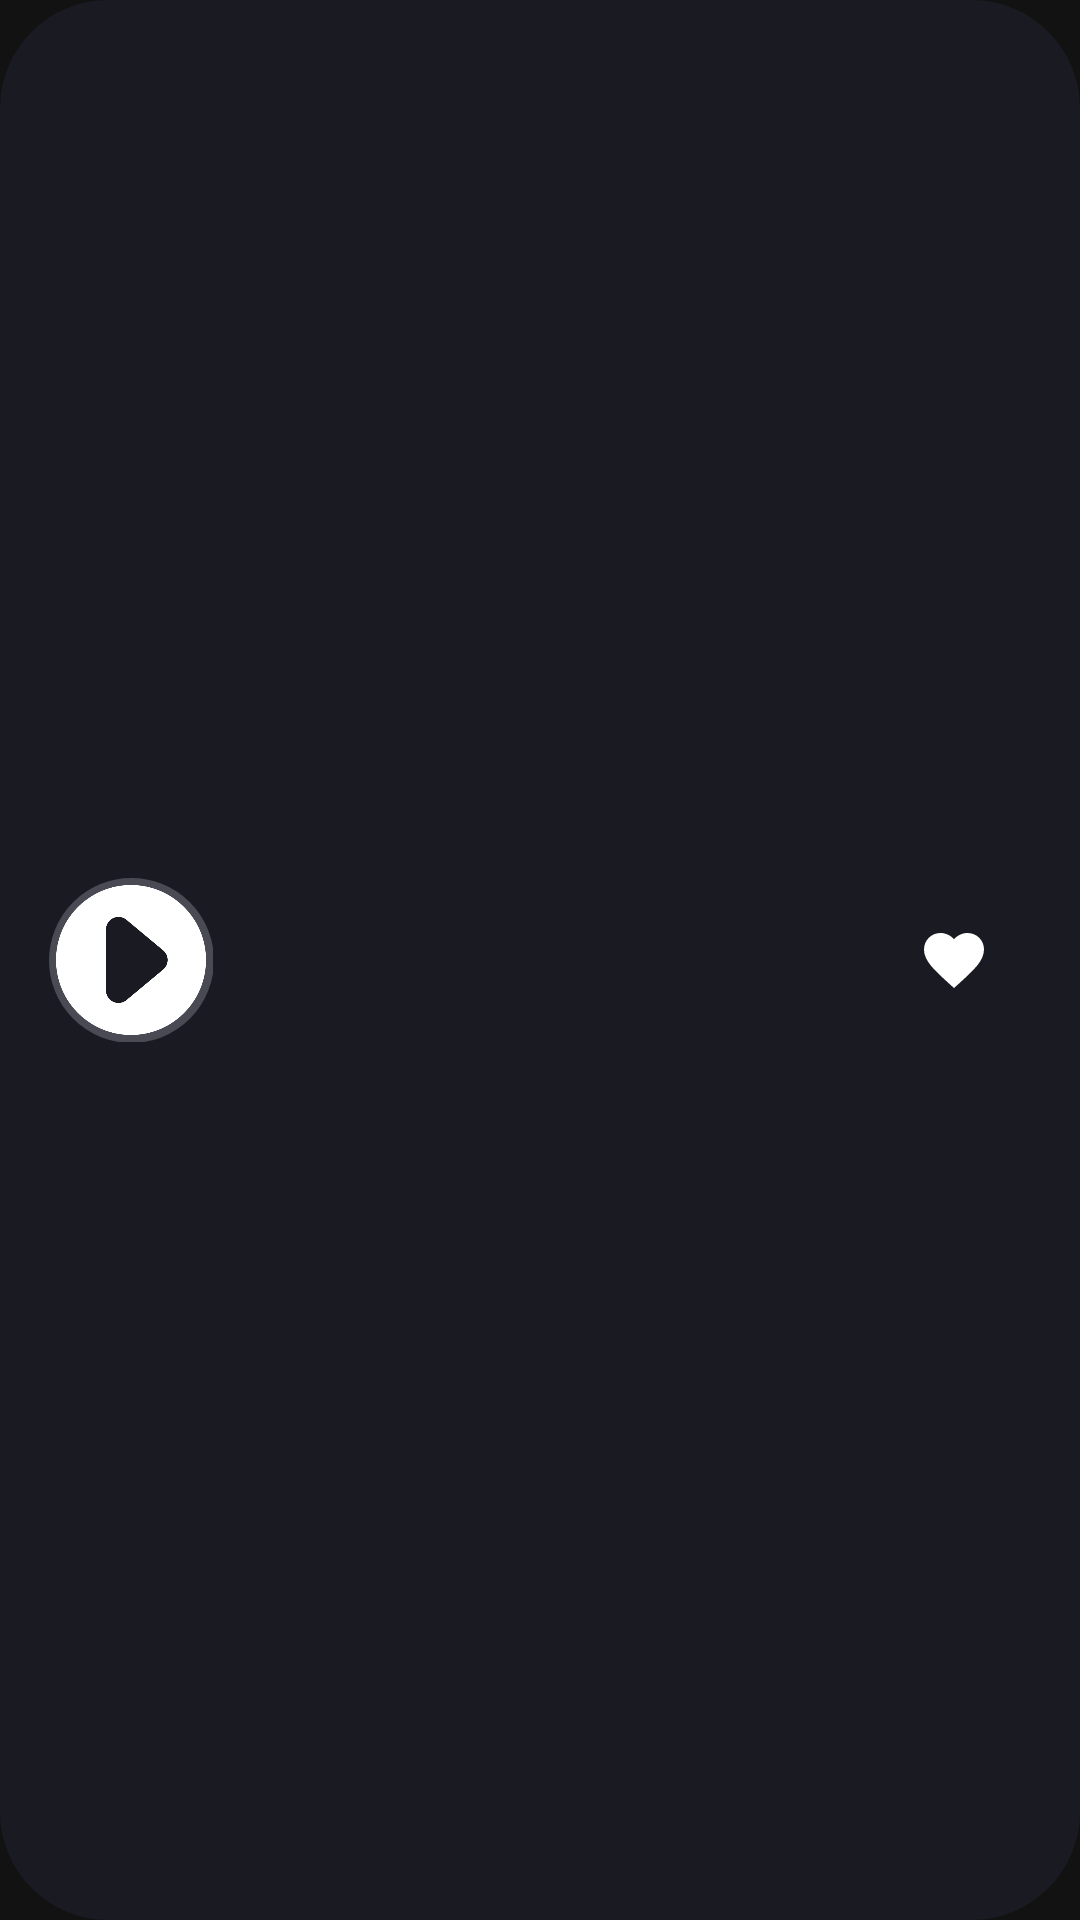

Named icons in this screenshot (1080px×1920px) and their centers, point (x, y):
Phát bài hát: point (131, 960)
Thêm vào yêu thích: point (954, 960)
